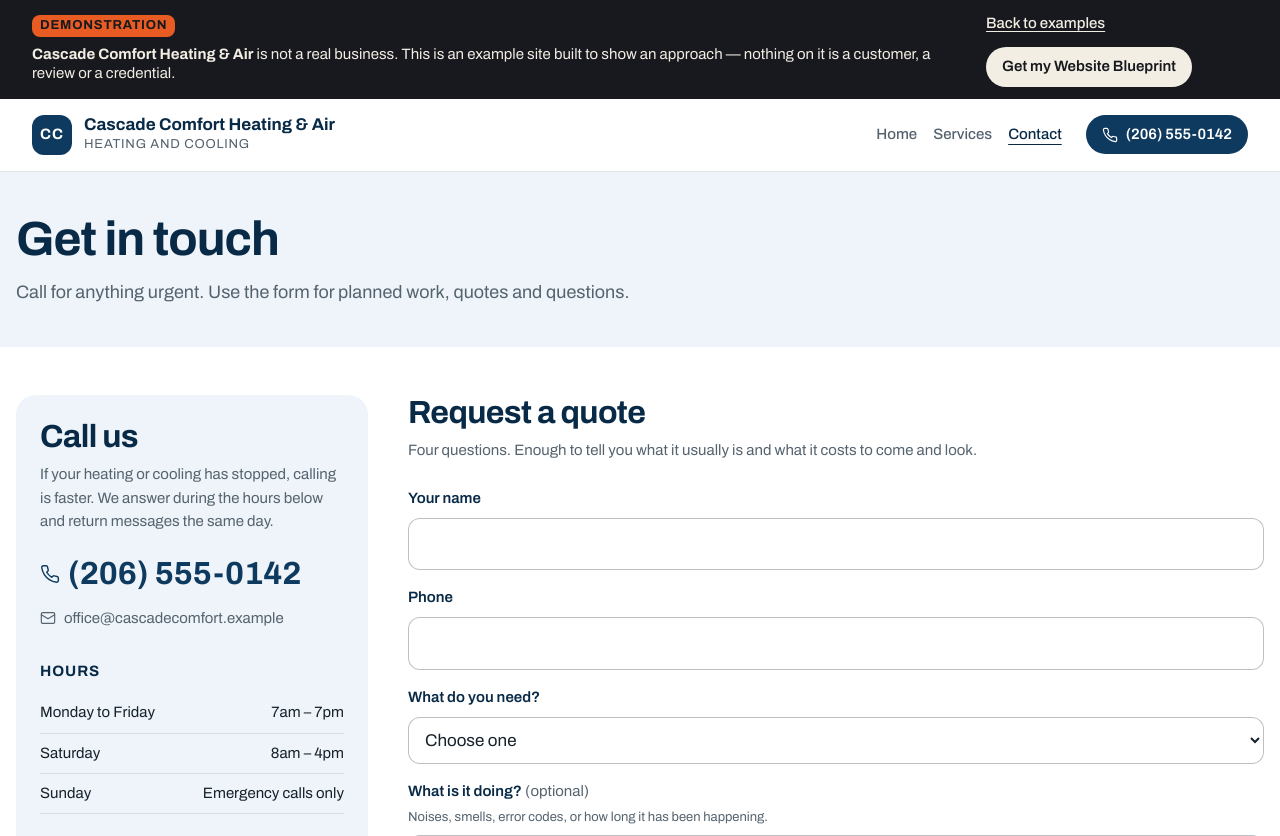
Test: the demo quote form › says nothing was sent, rather than faking a success
Type "Sam Whitfield" into the field labelled "Your name" at (836, 544), box top-left (408, 518), bottom-right (1264, 570)
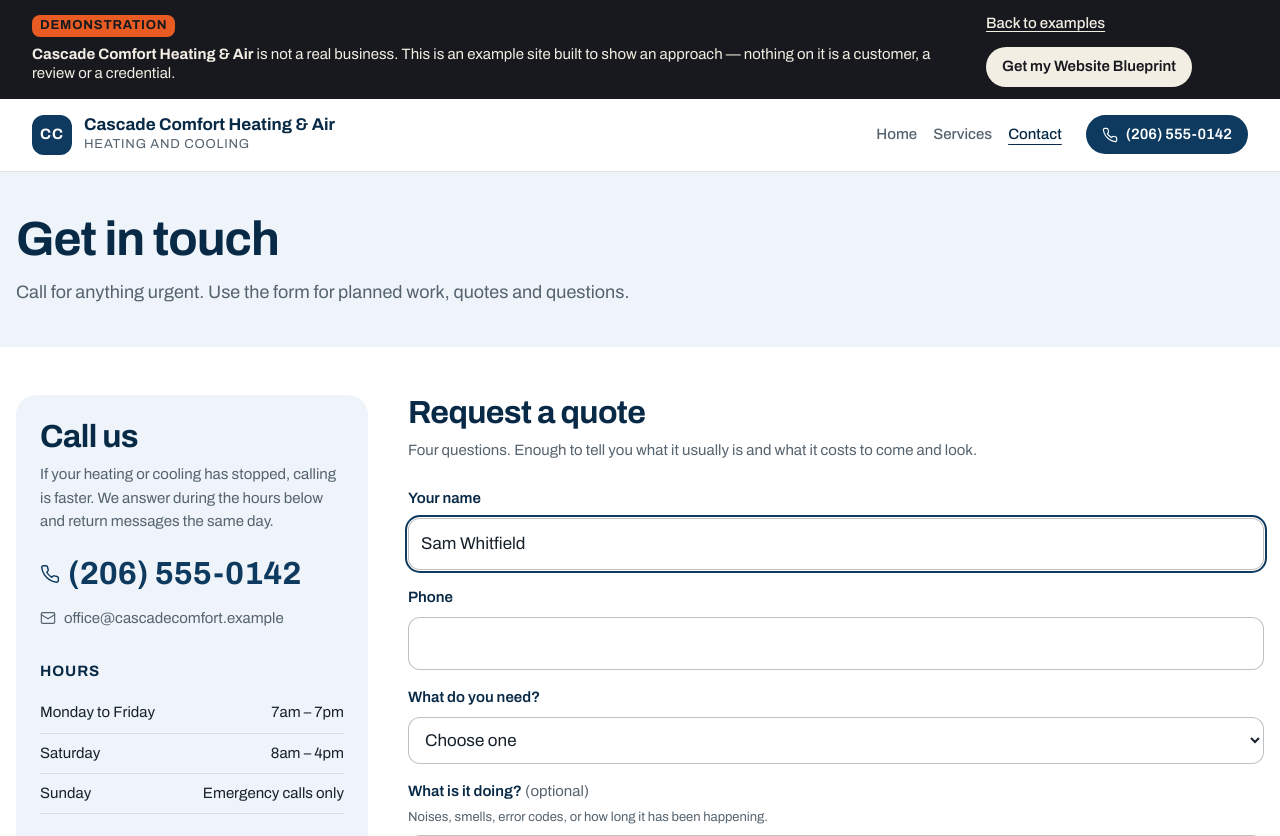
Type "206 555 0111" into the field labelled "Phone" at (836, 644), box top-left (408, 618), bottom-right (1264, 670)
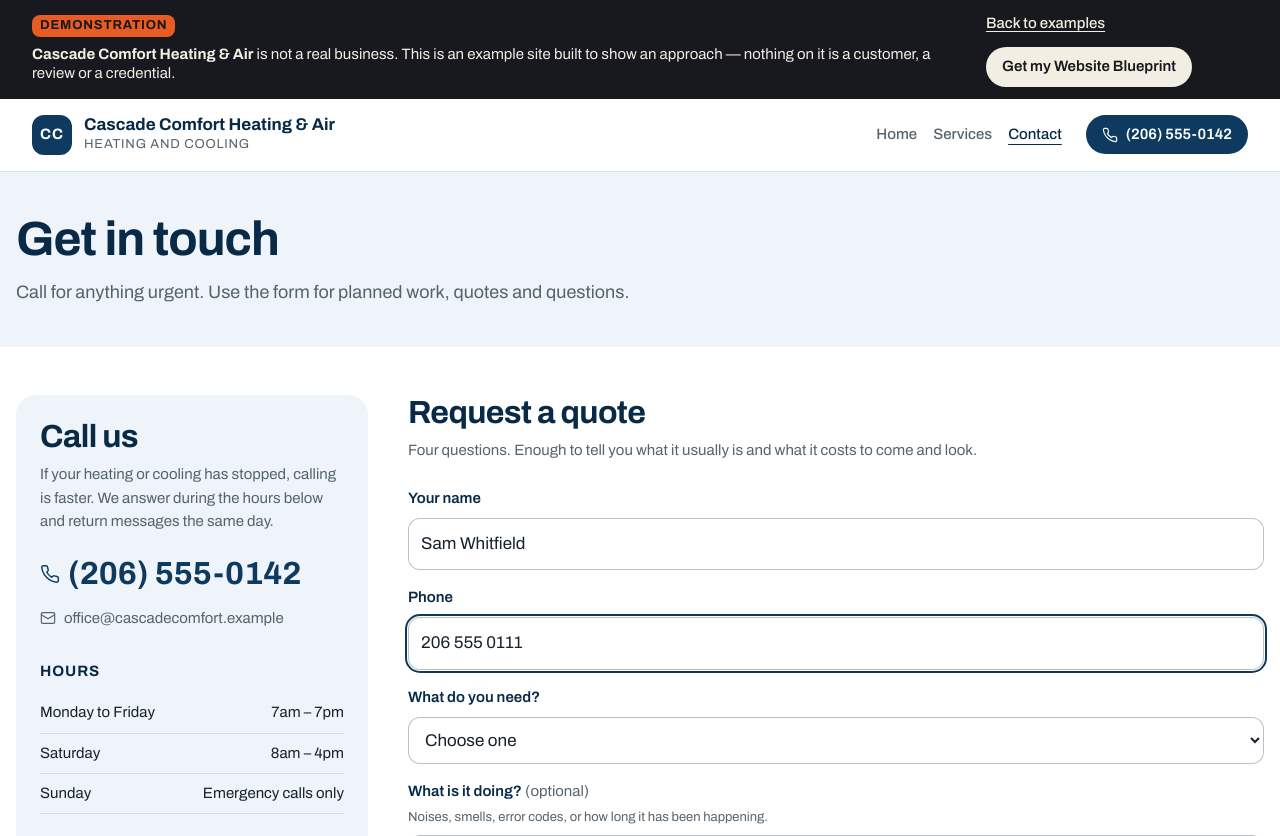
Select "No heat" in the dropdown labelled "What do you need?" at (836, 741), box top-left (408, 717), bottom-right (1264, 764)
(page scrolled)
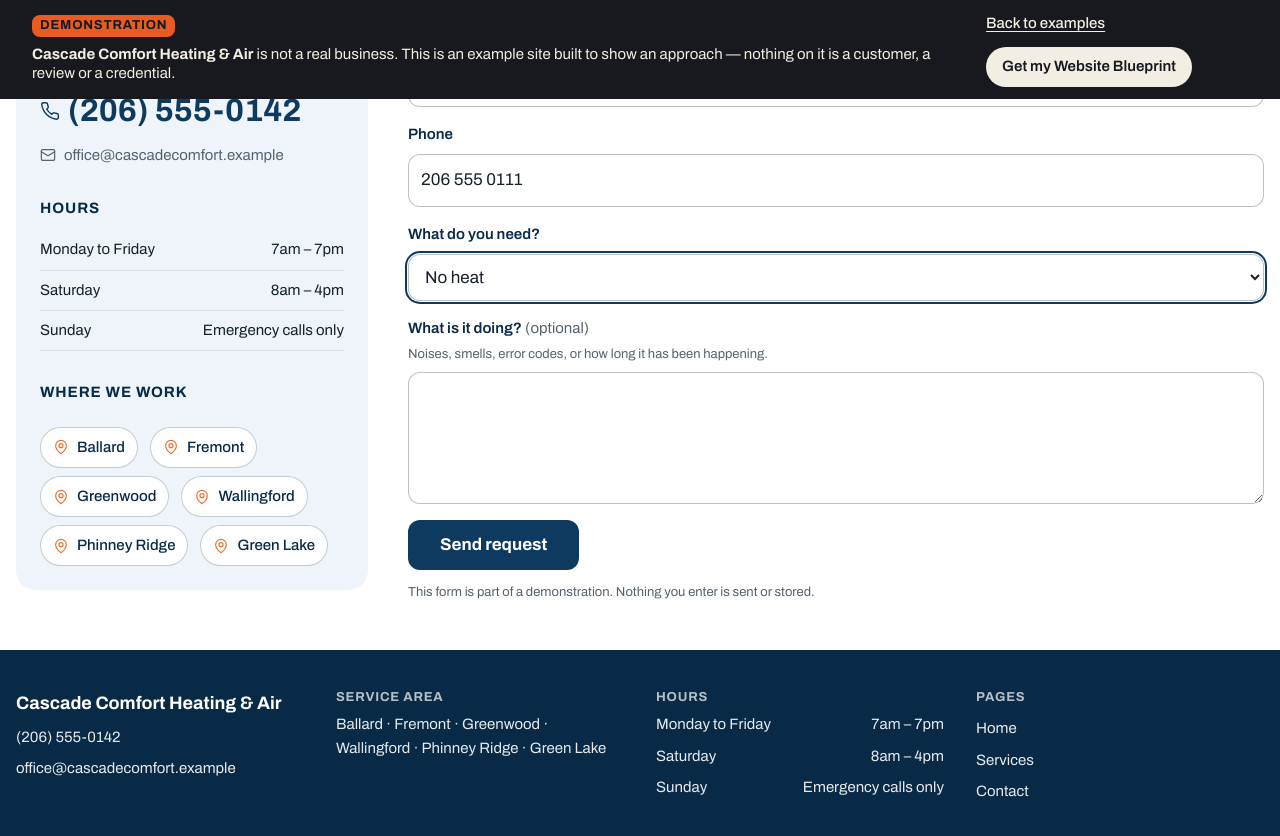
Click the button "Send request" at (494, 545), box top-left (408, 520), bottom-right (579, 570)
(page scrolled)
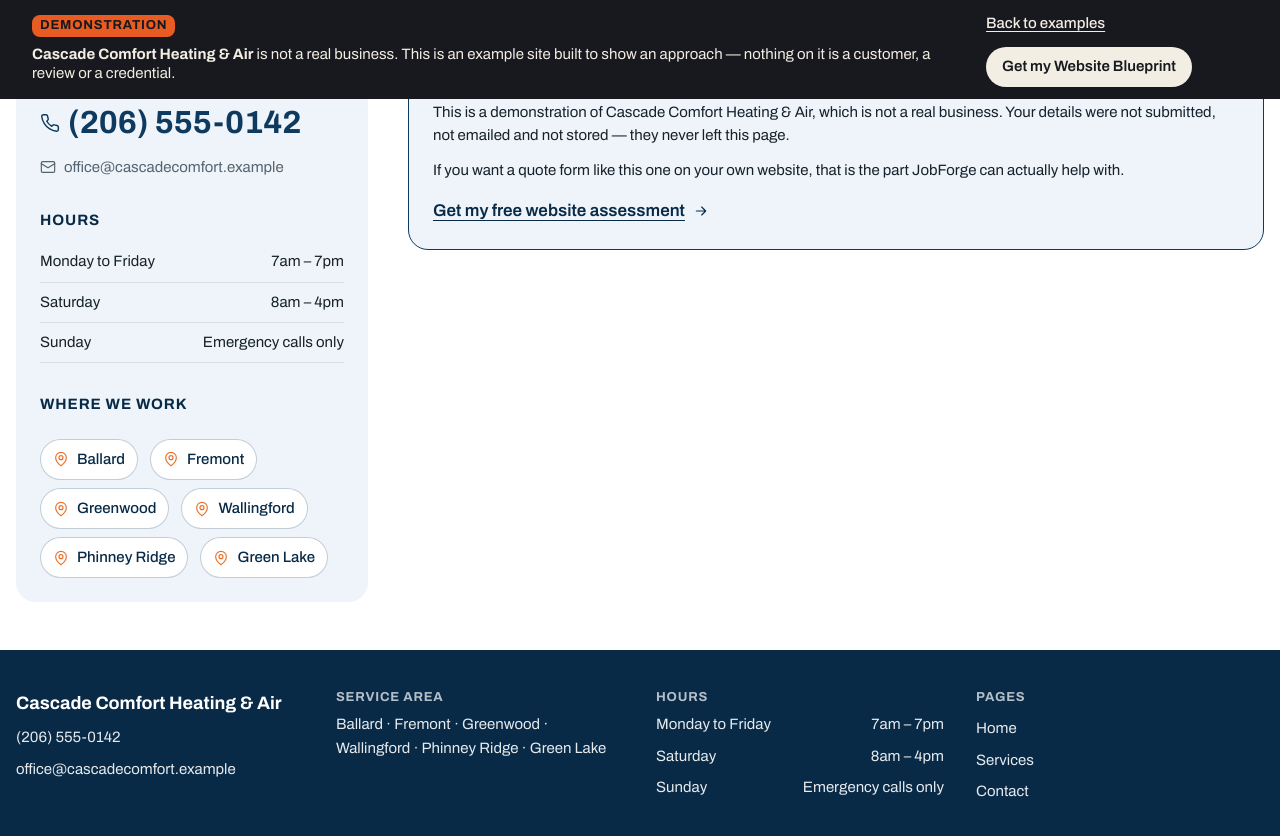
Check: the text "Nothing was sent." is shown, box top-left (433, 64), bottom-right (614, 84)
Check: the text "not submitted, not emailed and not stored" is shown, box top-left (433, 104), bottom-right (1216, 143)
